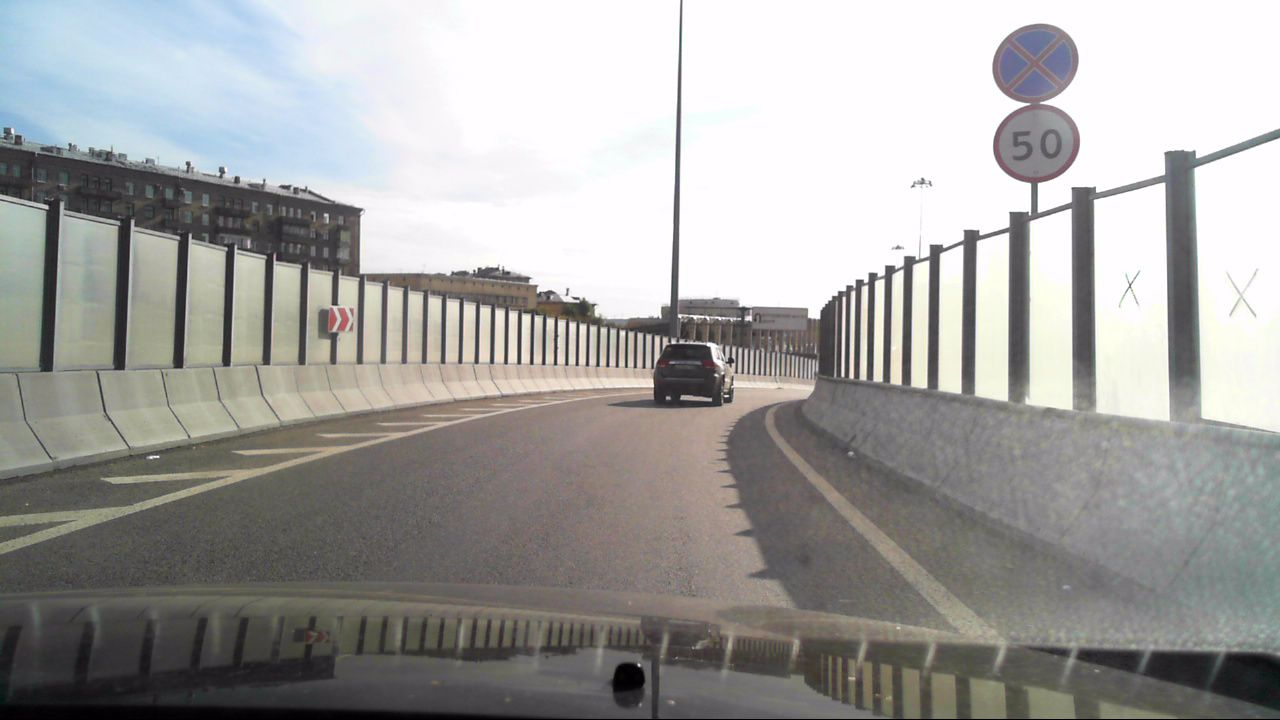No Parking: (993, 20, 1078, 104)
